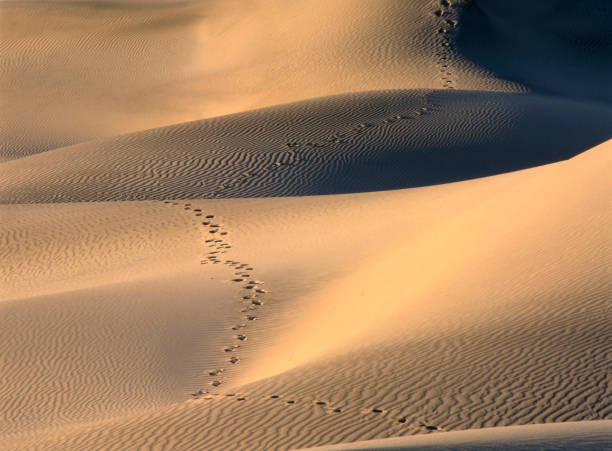human_foot_print: (164, 201, 267, 366), (191, 367, 444, 431), (197, 392, 446, 432), (286, 92, 434, 154), (433, 0, 460, 88)
